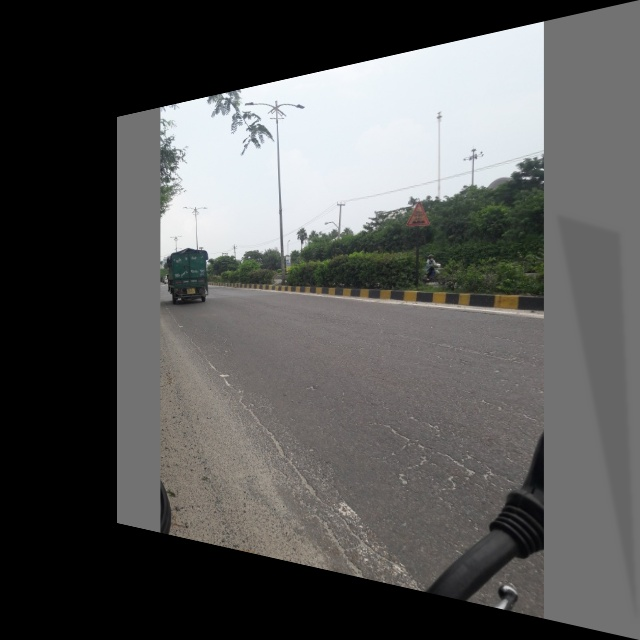Hump_or_Rough_Road: (402, 197, 433, 232)
